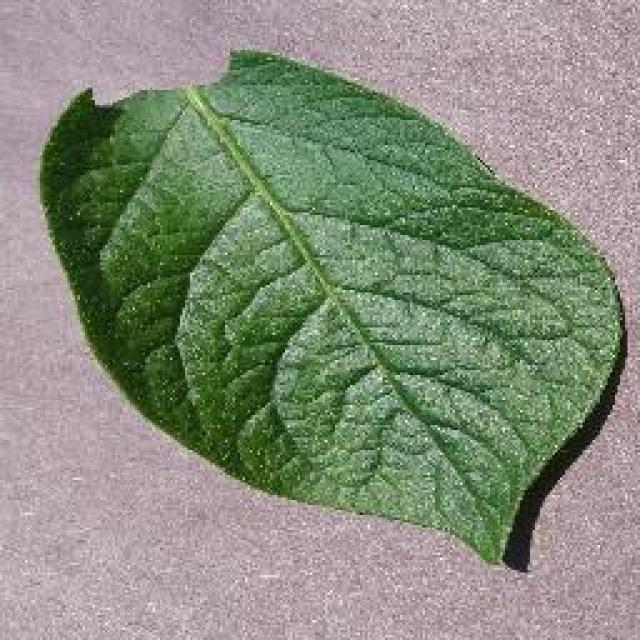Potato___healthy: (32, 46, 628, 570)
